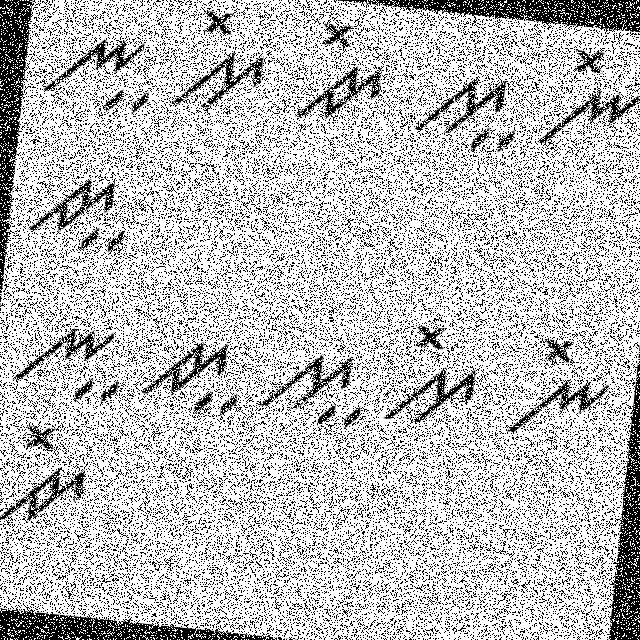jah: (21, 152, 140, 259), (133, 323, 250, 424)
jo: (0, 416, 101, 537), (285, 14, 390, 128)
nyah: (0, 306, 129, 410), (38, 24, 158, 122)
nyo: (501, 324, 621, 452), (537, 37, 639, 159)
sah: (404, 54, 526, 162), (250, 338, 372, 438)
so: (380, 312, 488, 432), (165, 4, 271, 117)
